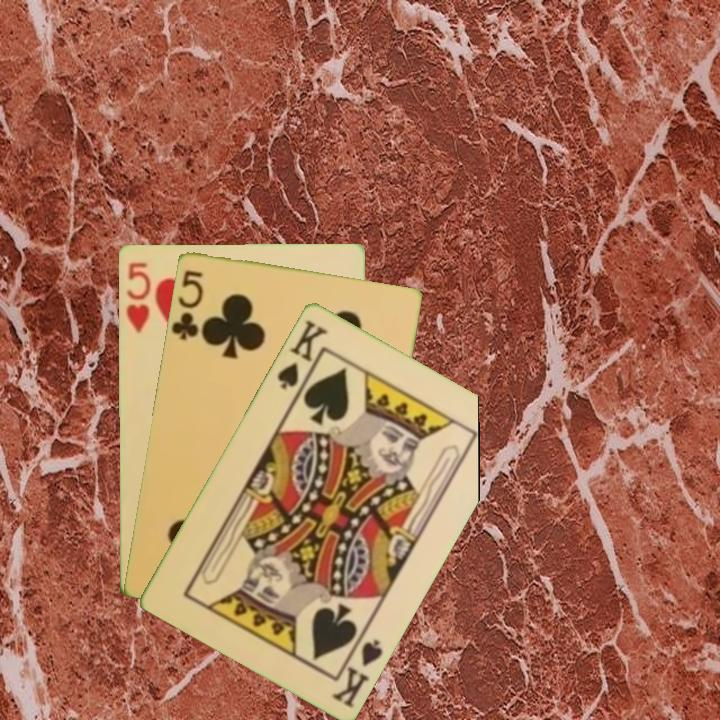5c: (168, 266, 206, 343)
5h: (122, 258, 153, 335)
Ks: (328, 626, 386, 711), (273, 315, 331, 398)
